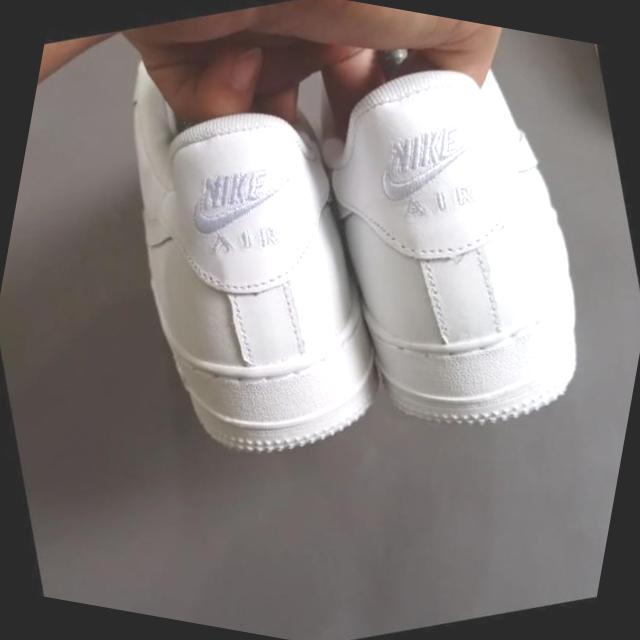nike_fake_airforce: (245, 8, 640, 490), (55, 54, 448, 510)
